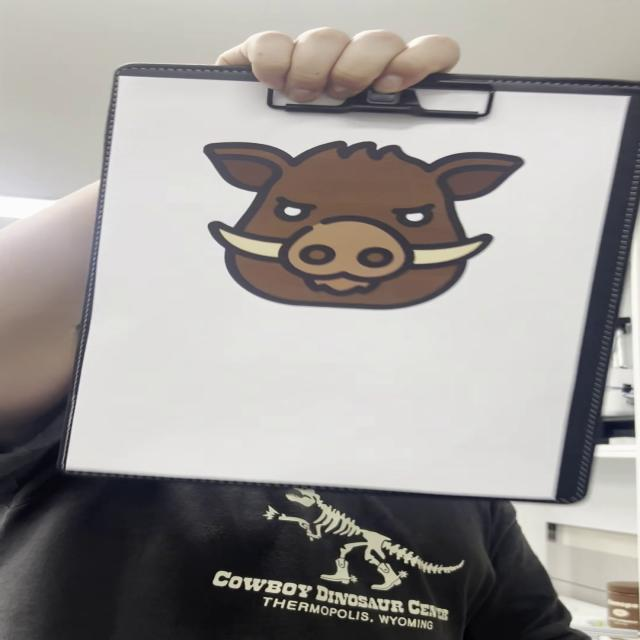animal: (201, 138, 530, 312)
